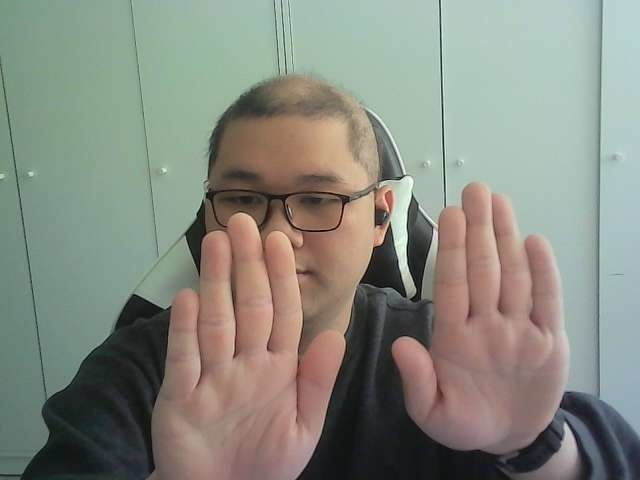Ten: (151, 182, 570, 478)
